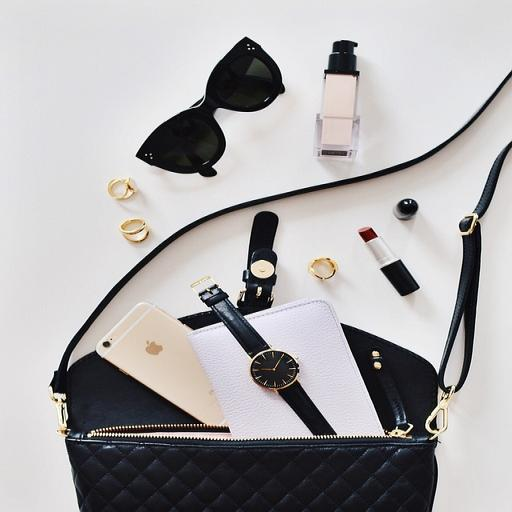lipstick: (315, 40, 358, 158), (358, 228, 418, 295)
